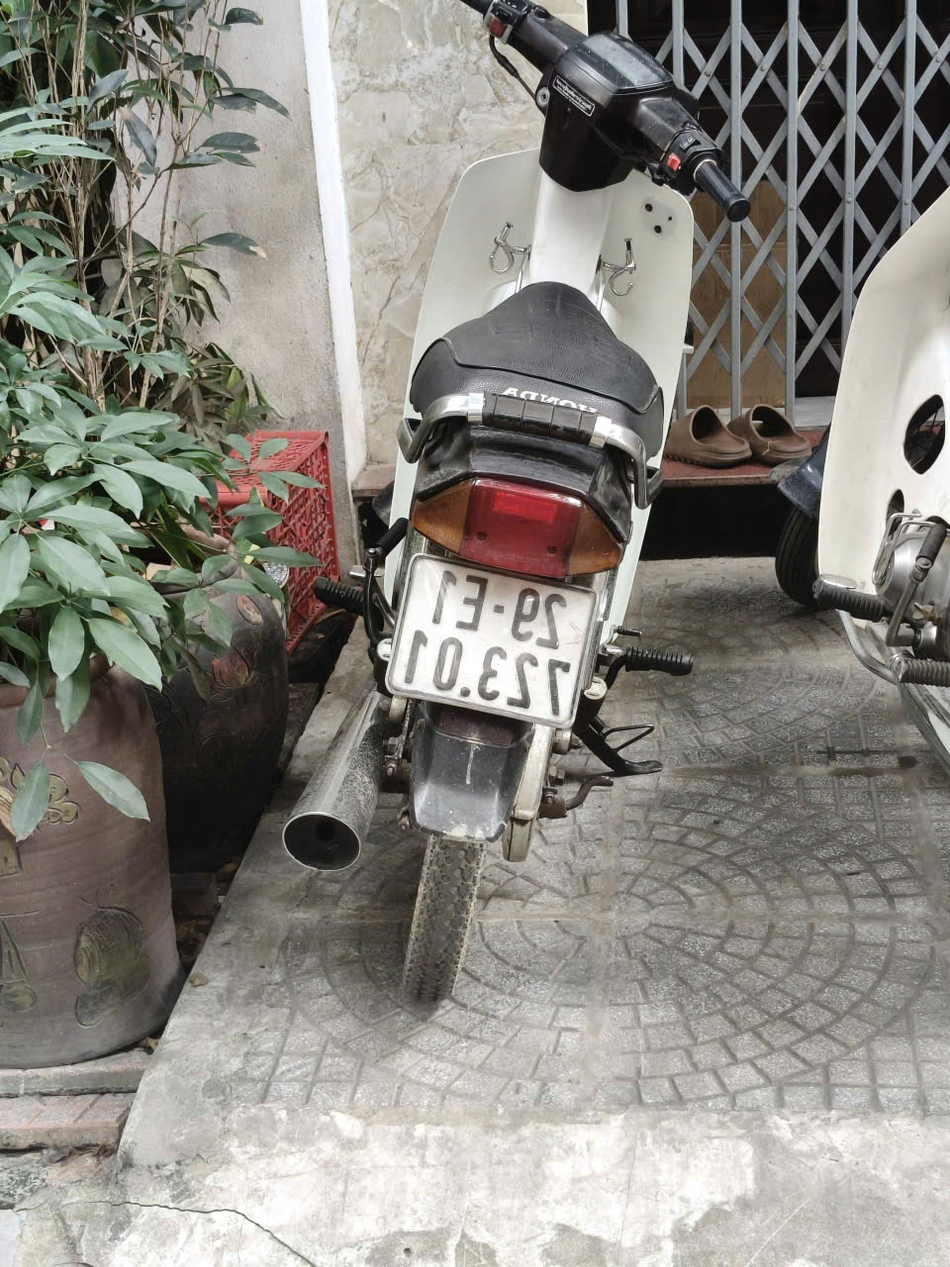plate: (44, 397, 169, 440)
